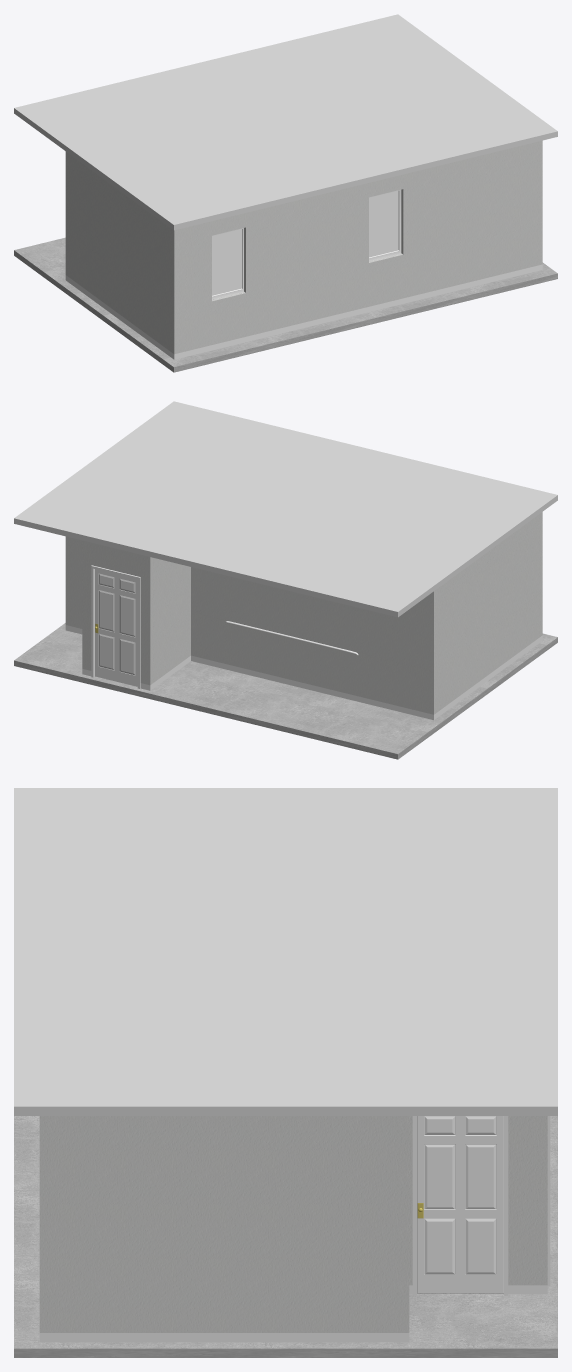
File: FloorPlan216_physics.fbx
The picture shows the model from 3 angles, top to bottom: view 1: azimuth 30°, elevation 25°; view 2: azimuth 150°, elevation 25°; view 3: azimuth 270°, elevation 25°; orthographic projection. The views are drawn at different scales.
Visible parts, largest first — view 1: FP216:Ceiling, FP216:StandardWallSize, FP216:Floor, FP216:polySurface1, FP216:polySurface2; view 2: FP216:Ceiling, FP216:StandardWallSize, FP216:Floor, FP216:StandardDoor1, FP216:StandardDoorFrame1; view 3: FP216:Ceiling, FP216:StandardWallSize, FP216:Floor, FP216:StandardDoor1, FP216:StandardDoorFrame1.
Part boxes in pixels (box(x1,y1,x2,y2)): FP216:Ceiling: box(14, 14, 557, 230); FP216:StandardWallSize: box(65, 140, 542, 359); FP216:Floor: box(14, 237, 557, 372); FP216:polySurface1: box(369, 191, 398, 257); FP216:polySurface2: box(212, 229, 241, 295); FP216:Ceiling: box(14, 401, 557, 617); FP216:StandardWallSize: box(65, 512, 542, 720); FP216:Floor: box(14, 623, 557, 759); FP216:StandardDoor1: box(95, 569, 137, 686); FP216:StandardDoorFrame1: box(91, 565, 140, 688); FP216:Ceiling: box(14, 788, 557, 1115); FP216:StandardWallSize: box(39, 1116, 547, 1342); FP216:Floor: box(14, 1116, 557, 1357); FP216:StandardDoor1: box(417, 1116, 503, 1293); FP216:StandardDoorFrame1: box(412, 1116, 508, 1295).
Size of the model in its own units: 735 by 270 by 530.
